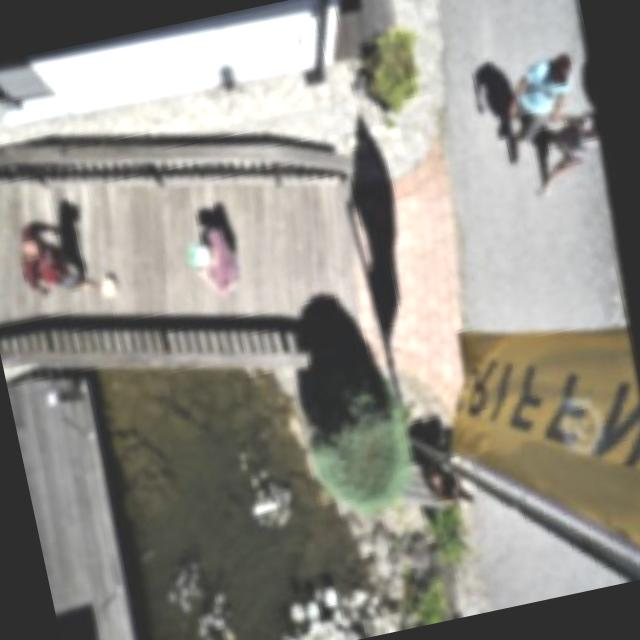Person: (484, 45, 602, 162), (11, 200, 106, 312), (514, 102, 611, 202), (182, 212, 254, 299)
